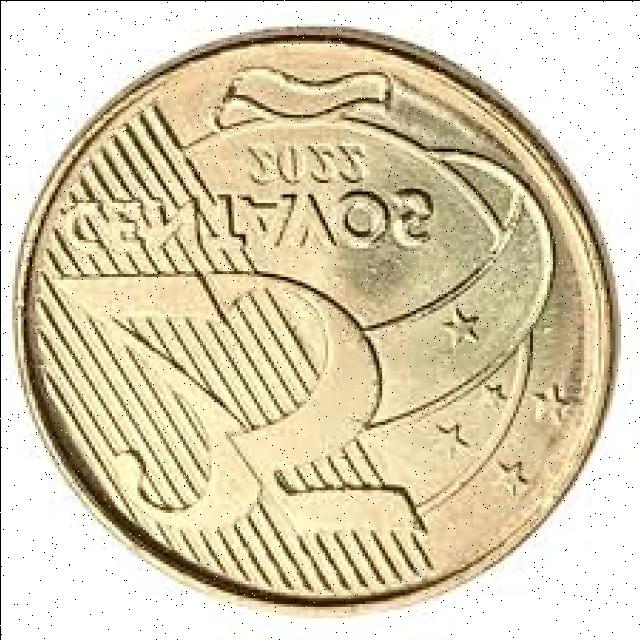25 cent: (21, 45, 613, 621)
